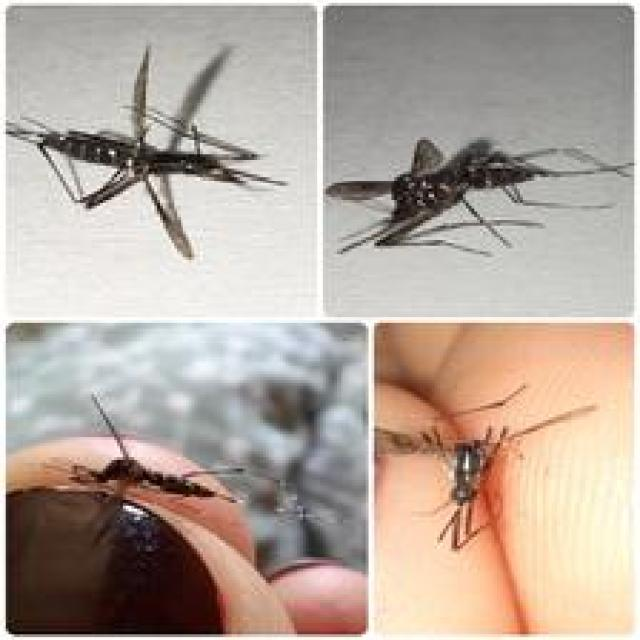Aedes albopictus: (323, 134, 634, 257)
